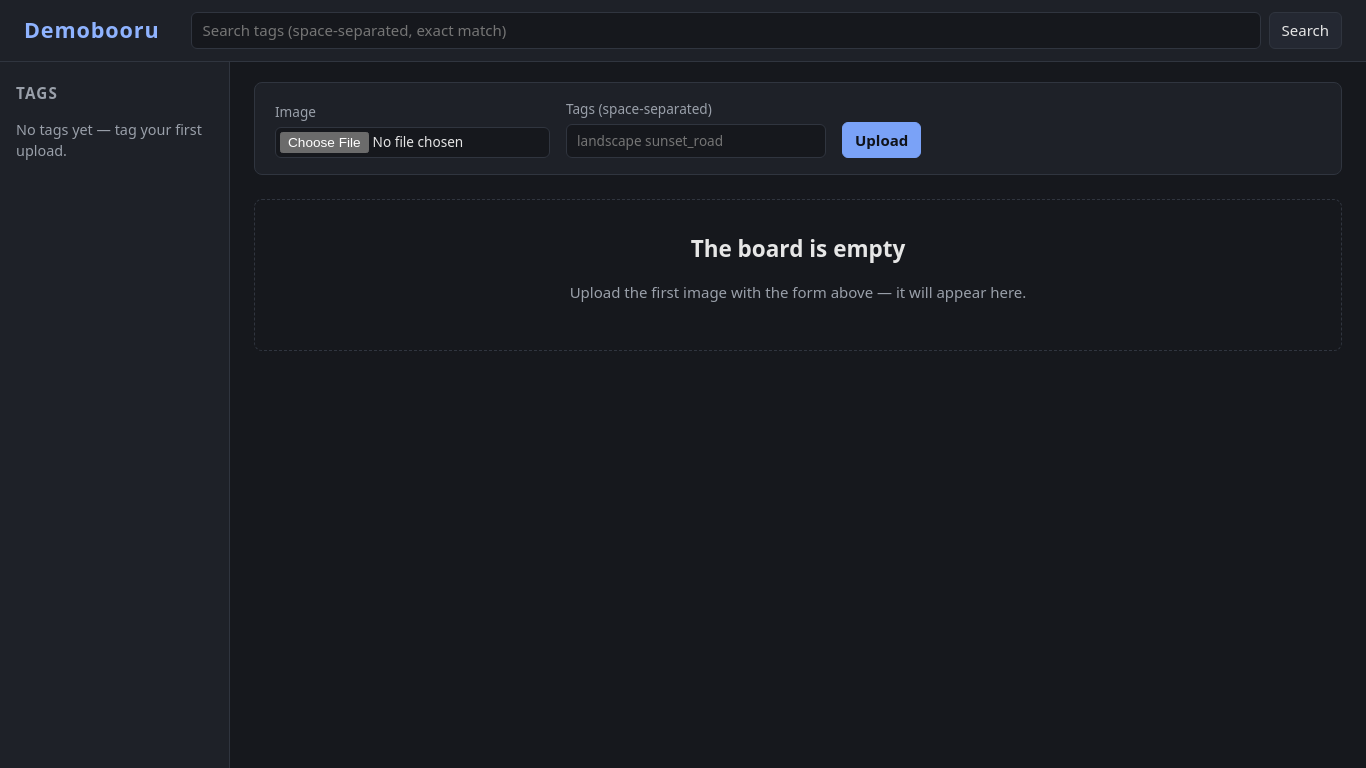
upload form › requires a file before submitting
The width and height of the screenshot is (1366, 768).
expect the file field labelled "Image" is shown: met, box [275,127,550,158]
Type "solo" into the field labelled "Tags (space-separated)" at (696,141), box [566,124,826,158]
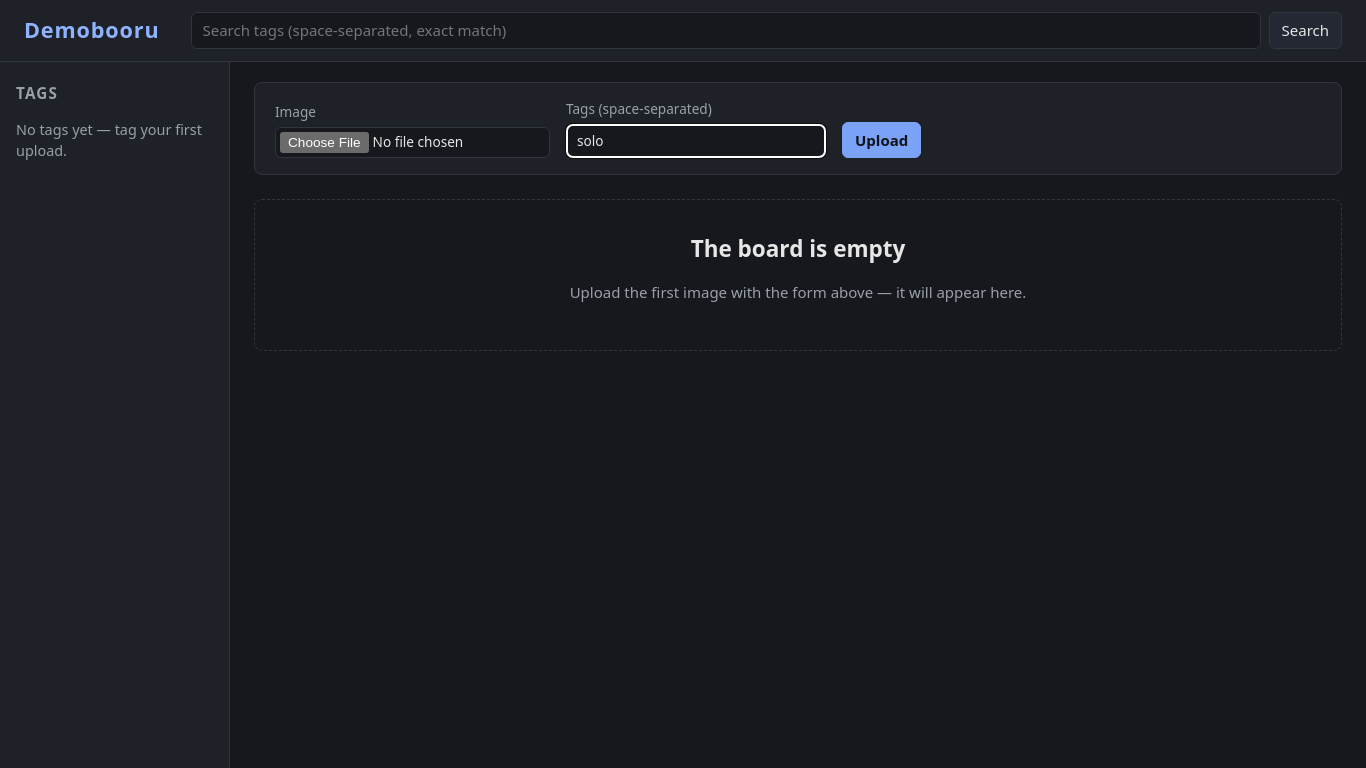
Click the button "Upload" at (882,140), box [842,122,921,158]
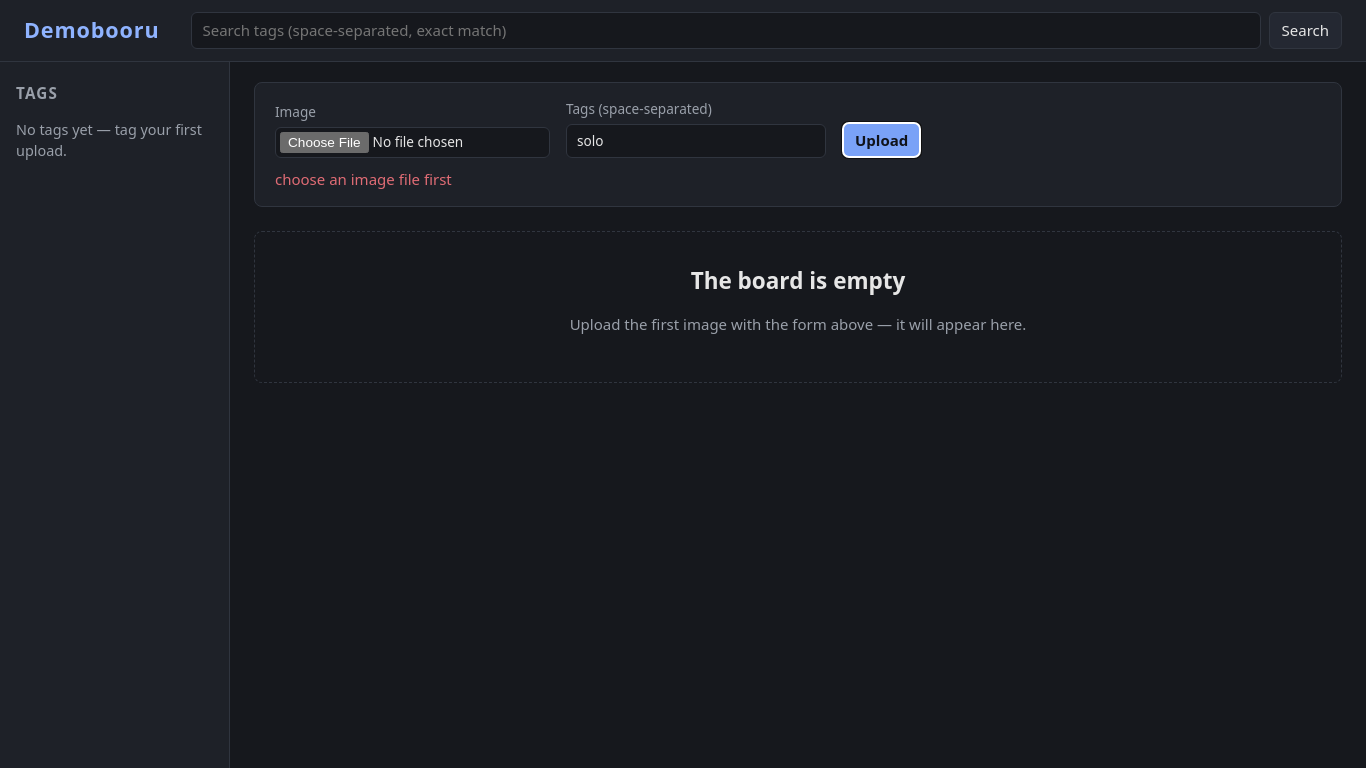
expect the message reads "choose an image file first": met, box [275,169,452,189]
